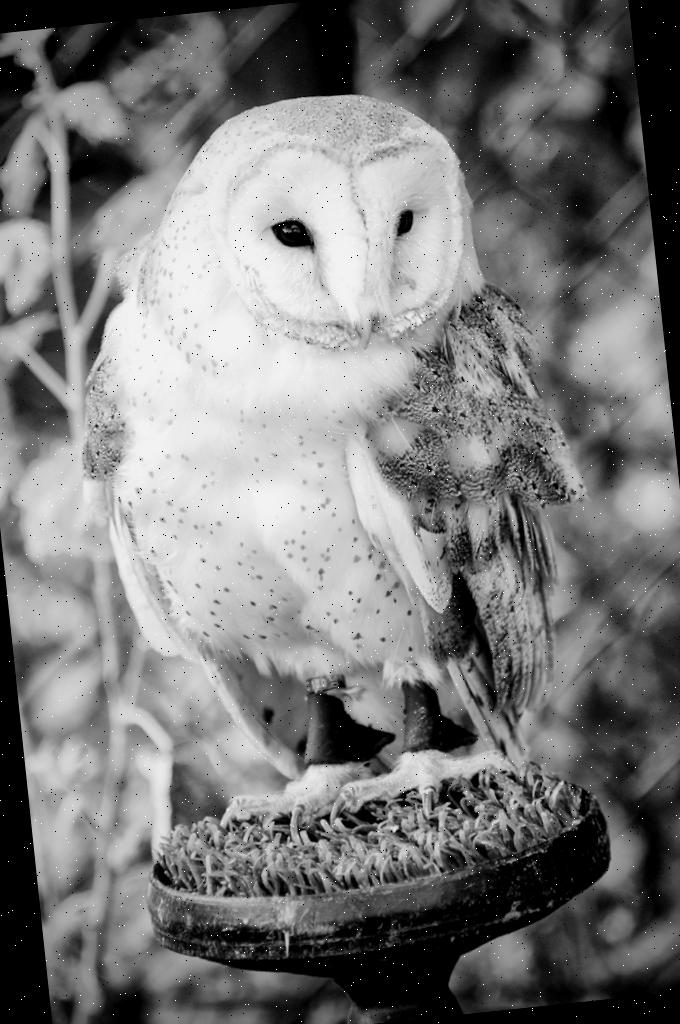Owl: (32, 64, 621, 872)
